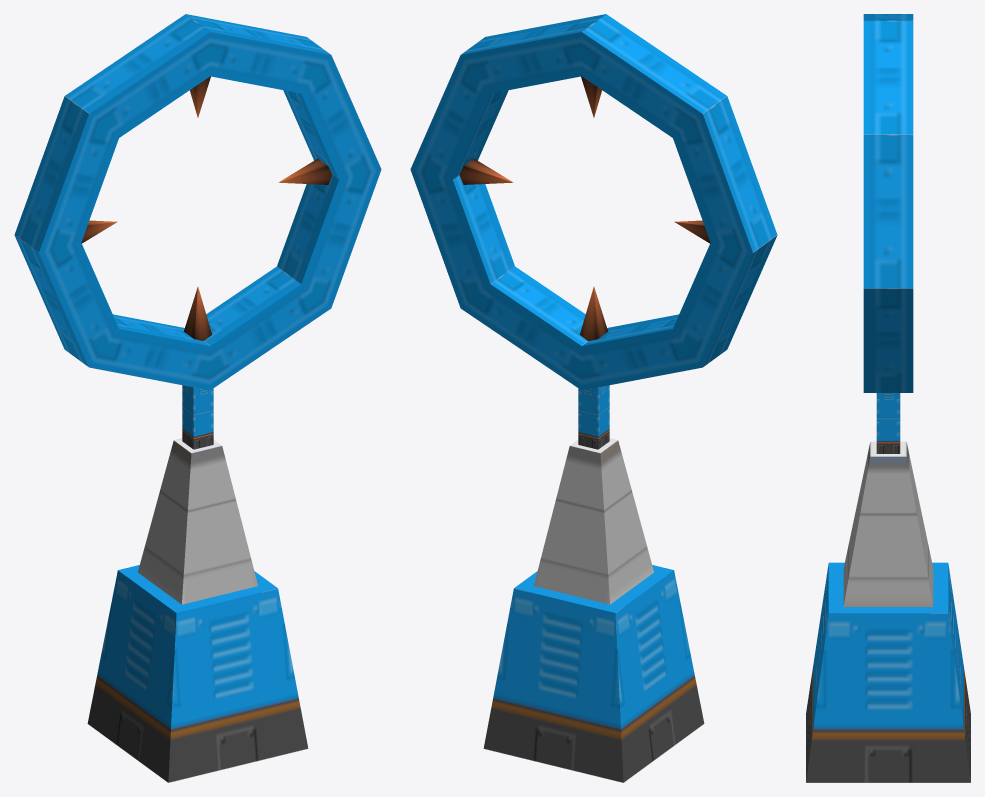
The model's file is target1.gltf.
The picture shows the model from 3 angles, left to right: view 1: azimuth 30°, elevation 25°; view 2: azimuth 150°, elevation 25°; view 3: azimuth 270°, elevation 25°; orthographic projection.
Visible parts, largest first — view 1: target1; view 2: target1; view 3: target1.
Boxes of the visible parts, x1,y1,x2,y2 form: target1: (14,14,381,782); target1: (410,14,777,782); target1: (806,14,970,782).
Bounding box in the file's own units: 34.24 × 68.12 × 13.99.
Materials: 3 (3 with a texture image).
